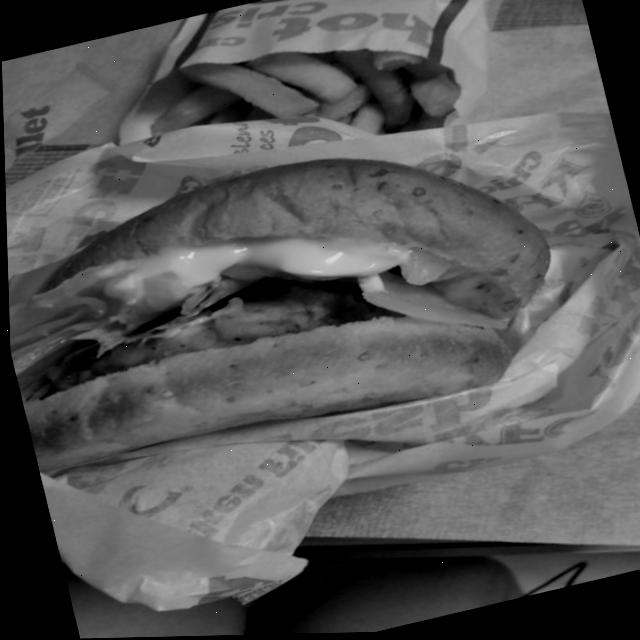汉堡快餐: (2, 91, 587, 549)
